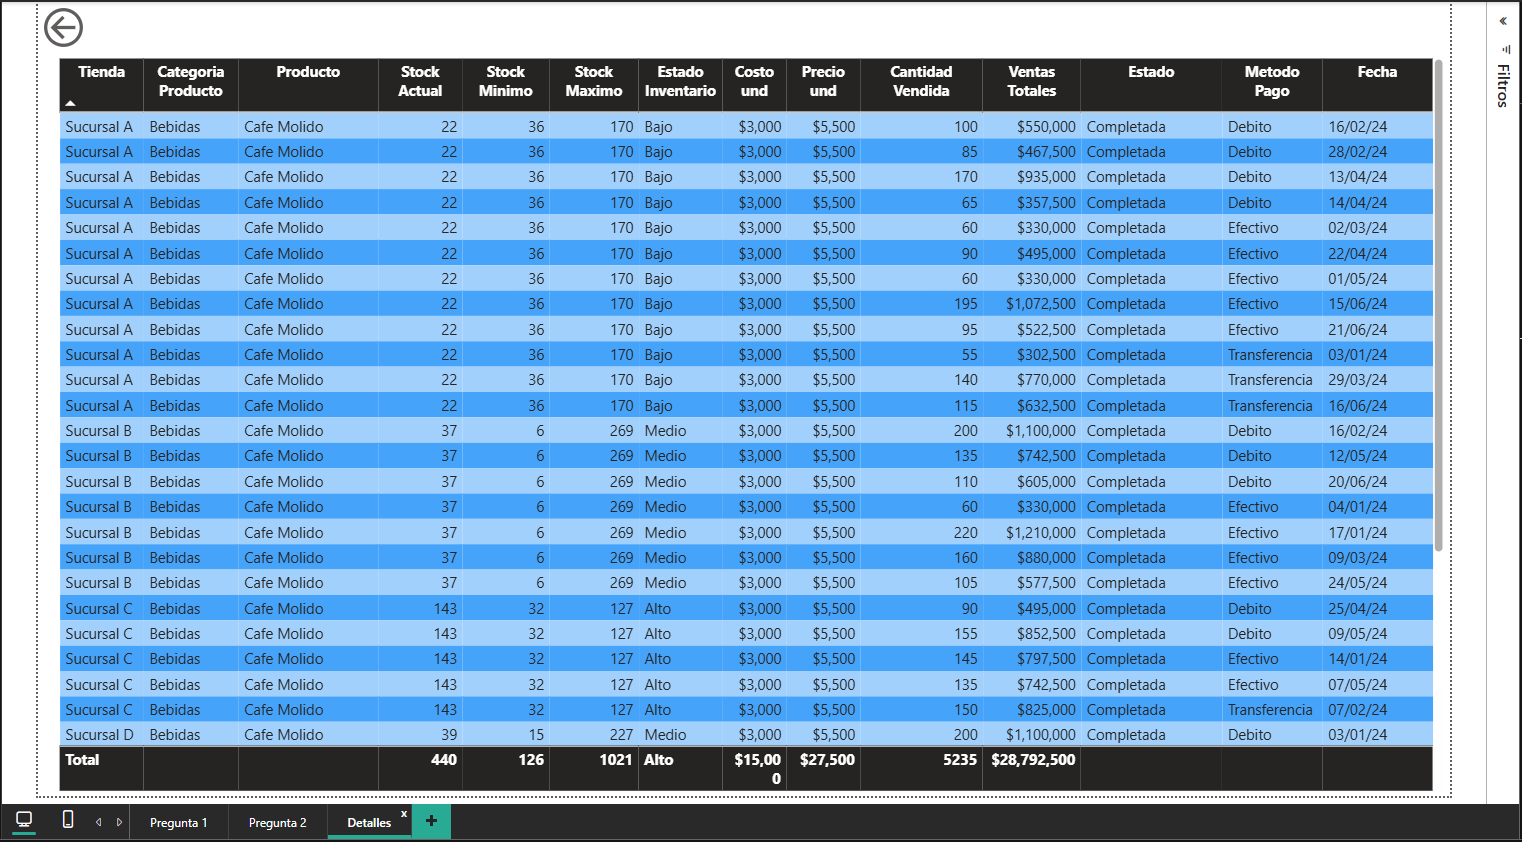

What the dashboard file says about the page in this screenshot:
{"tool":"powerbi","page":{"name":"Detalles","canvas":[1280,720],"ordinal":2},"visuals":[{"type":"tableEx","fields":{"Values":["Dim_Tienda.Tienda","Dim_Producto.Categoria_Producto","Dim_Producto.Producto","Sum(inventario_robusto.Stock_Actual)","Sum(inventario_robusto.Stock_Minimo)","Sum(inventario_robusto.Stock_Maximo)","inventario_robusto.Estado_Inventario","Sum(inventario_robusto.Costo)","Sum(inventario_robusto.Precio)","Sum(ventas_robusto.Cantidad)","ventas_robusto.Ventas Totales","ventas_robusto.Estado"]},"box":[14,46,1266,674],"z":0},{"type":"actionButton","box":[0,0,48.1,46.2],"z":1000}]}

Visuals, with their boxes on the page's 1280x720 design canvas (x1, y1, x2, y2). These are canvas units, not pixel positions in the 1522x842 screenshot, which may show the page scaled, cropped or inside an application window:
tableEx - Dim_Tienda.Tienda x Dim_Producto.Categoria_Producto: Rect(14, 46, 1280, 720)
actionButton: Rect(0, 0, 48, 46)
